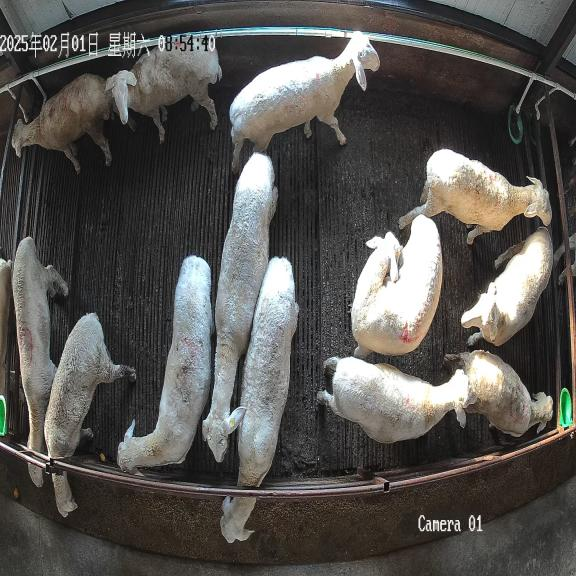eating: (220, 257, 299, 542), (44, 313, 136, 517), (12, 237, 68, 487)
stand: (202, 152, 278, 462), (229, 32, 380, 172), (117, 255, 212, 472), (398, 149, 551, 245), (317, 357, 476, 443), (351, 216, 443, 358), (461, 227, 554, 346), (106, 48, 222, 143), (12, 74, 115, 172), (444, 350, 553, 436)
